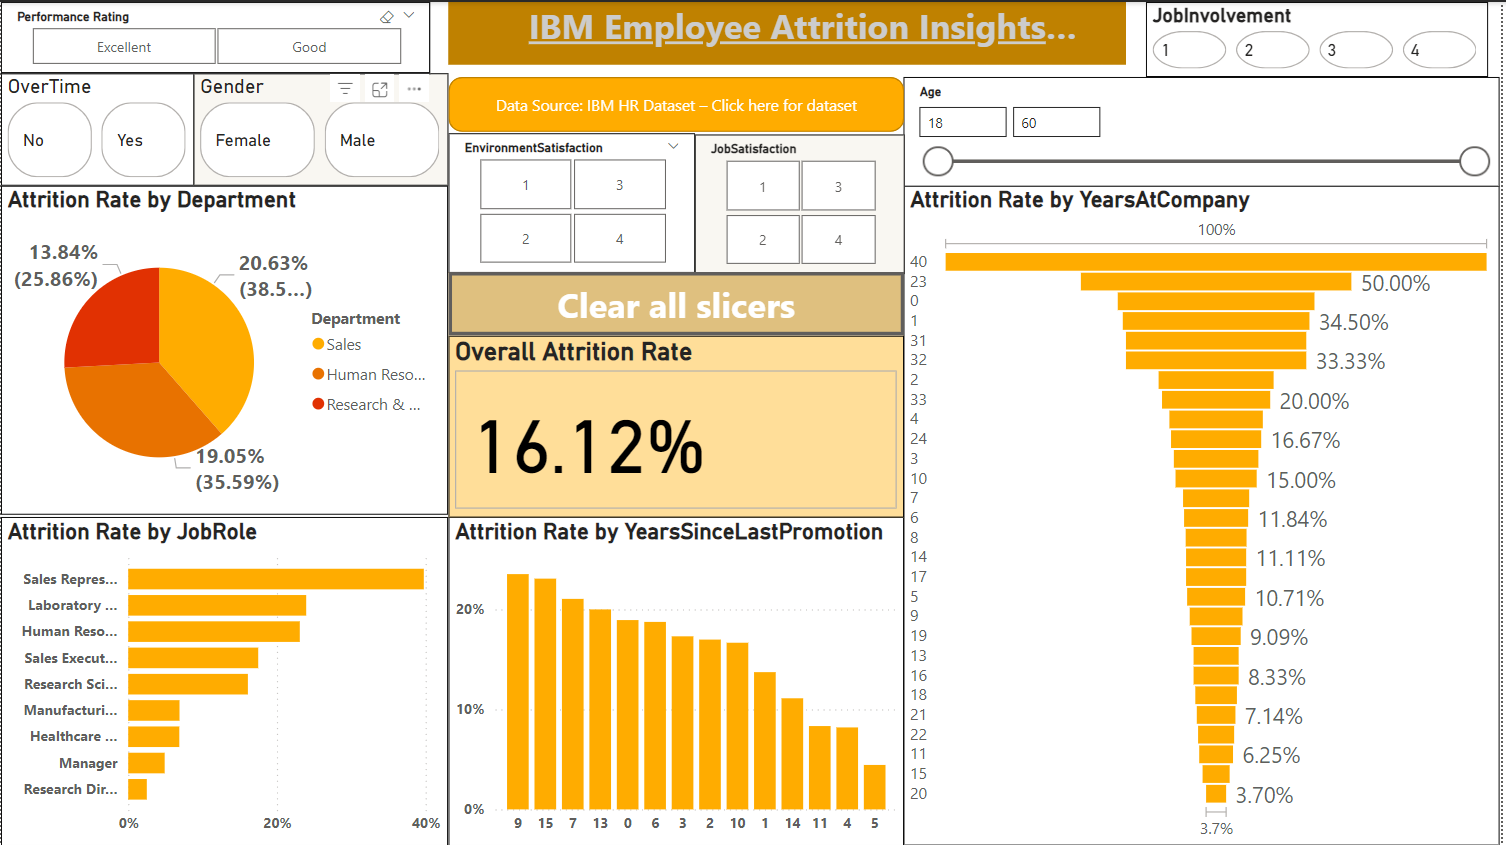

This screenshot's page, from the dashboard's own definition file:
{"tool":"powerbi","page":{"name":"Attrition Insights Dashboard","canvas":[1280,720],"ordinal":0},"visuals":[{"type":"pieChart","fields":{"Category":["IBM HR  Dataset.Department"],"Y":["IBM HR  Dataset.Attrition Rate"]},"box":[0,157.3,381.8,281],"z":0},{"type":"barChart","fields":{"Category":["IBM HR  Dataset.JobRole"],"Y":["IBM HR  Dataset.Attrition Rate"]},"box":[0,439.5,381.8,281],"z":1000},{"type":"funnel","fields":{"Category":["IBM HR  Dataset.YearsAtCompany"],"Y":["IBM HR  Dataset.Attrition Rate"]},"box":[770.9,157.3,509.1,563.2],"z":2000},{"type":"columnChart","fields":{"Category":["IBM HR  Dataset.YearsSinceLastPromotion"],"Y":["IBM HR  Dataset.Attrition Rate"]},"box":[381.8,439.5,389,281],"z":3000},{"type":"advancedSlicerVisual","fields":{"Values":["IBM HR  Dataset.OverTime"]},"box":[0,61.2,164.5,96.1],"z":4000},{"type":"cardVisual","title":"Overall Attrition Rate","fields":{"Data":["IBM HR  Dataset.Attrition Rate"]},"box":[381.8,284.6,389,154.9],"z":5000},{"type":"slicer","fields":{"Values":["IBM HR  Dataset.Age"]},"box":[770.9,63.6,509.1,93.7],"z":6000},{"type":"slicer","fields":{"Values":["IBM HR  Dataset.EnvironmentSatisfaction"]},"box":[381.8,111.7,210.1,118.9],"z":7000},{"type":"slicer","fields":{"Values":["IBM HR  Dataset.JobSatisfaction"]},"box":[592,112.9,178.9,118.9],"z":8000},{"type":"advancedSlicerVisual","fields":{"Values":["IBM HR  Dataset.JobInvolvement"]},"box":[977.4,0,291.8,63.6],"z":9000},{"type":"advancedSlicerVisual","fields":{"Values":["IBM HR  Dataset.Gender"]},"box":[164.5,61.2,217.3,96.1],"z":10000},{"type":"slicer","fields":{"Values":["IBM HR  Dataset.PerformanceRating"]},"box":[0,0,366.2,61.2],"z":11000},{"type":"shape","box":[366.2,0,611.2,61.2],"z":12000},{"type":"actionButton","box":[381.8,230.5,389,54],"z":13000},{"type":"shape","box":[381.8,63.6,389,46.8],"z":14000}]}

Visuals, with their boxes in screenshot pixels (x1, y1, x2, y2), scaled from the page's 1280x720 canvas onto the 1506x845 screenshot:
pieChart - IBM HR  Dataset.Department x IBM HR  Dataset.Attrition Rate: [0,185,449,514]
barChart - IBM HR  Dataset.JobRole x IBM HR  Dataset.Attrition Rate: [0,516,449,844]
funnel - IBM HR  Dataset.YearsAtCompany x IBM HR  Dataset.Attrition Rate: [907,185,1505,844]
columnChart - IBM HR  Dataset.YearsSinceLastPromotion x IBM HR  Dataset.Attrition Rate: [449,516,907,844]
advancedSlicerVisual - IBM HR  Dataset.OverTime: [0,72,194,185]
"Overall Attrition Rate" cardVisual: [449,334,907,516]
slicer - IBM HR  Dataset.Age: [907,75,1505,185]
slicer - IBM HR  Dataset.EnvironmentSatisfaction: [449,131,696,271]
slicer - IBM HR  Dataset.JobSatisfaction: [697,133,907,272]
advancedSlicerVisual - IBM HR  Dataset.JobInvolvement: [1150,0,1493,75]
advancedSlicerVisual - IBM HR  Dataset.Gender: [194,72,449,185]
slicer - IBM HR  Dataset.PerformanceRating: [0,0,431,72]
shape: [431,0,1150,72]
actionButton: [449,271,907,334]
shape: [449,75,907,130]
